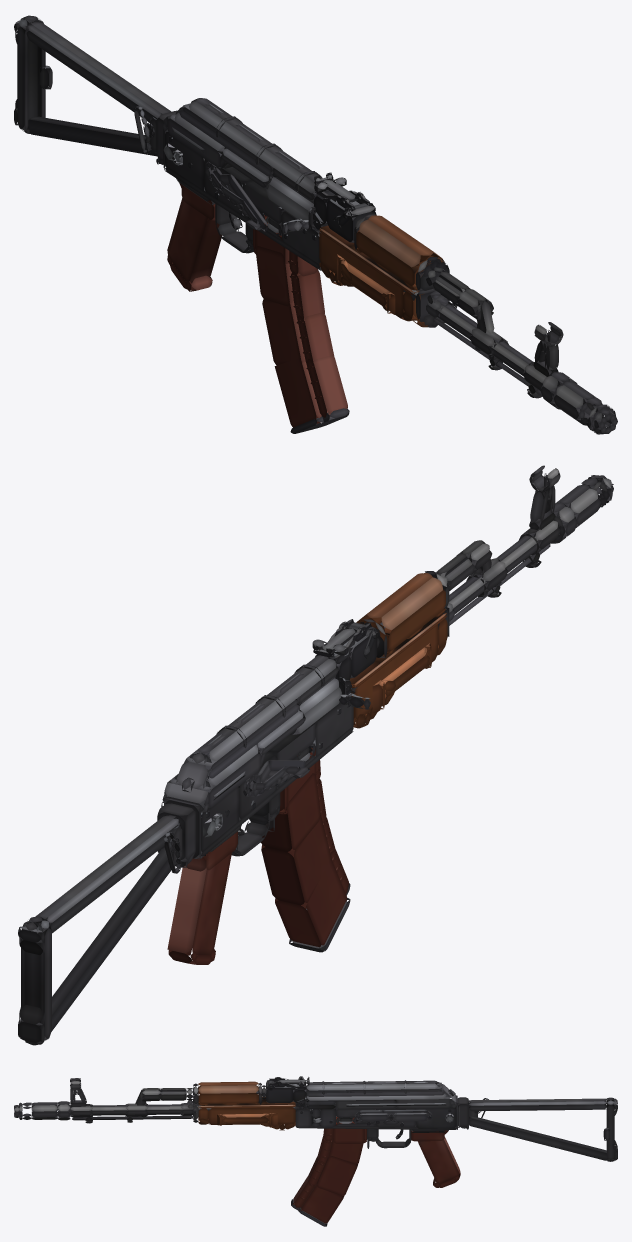
3 views of the same model, one above another, from view 1: azimuth 30°, elevation 25°; view 2: azimuth 150°, elevation 25°; view 3: azimuth 270°, elevation 25° (orthographic). The views are drawn at different scales.
Visible parts, largest first — view 1: cube_242, cube_434, cube_363, cube_362, cube_350, cube_207, cube_365, cube_60, cube_366, cube_65, cube_400, cube_398 (+18 smaller); view 2: cube_242, cube_434, cube_362, cube_363, cube_350, cube_207, cube_60, cube_398, cube_65, cube_400, cube_34, cube_399 (+11 smaller); view 3: cube_434, cube_242, cube_362, cube_363, cube_60, cube_436, cube_36, cube_65, cube_4, cube_32, cube_210, cube_435 (+26 smaller).
Part boxes in pixels (left/top/right/bottom): cube_242: left=167, top=198, right=222, bottom=283; cube_434: left=27, top=116, right=156, bottom=156; cube_363: left=274, top=358, right=330, bottom=427; cube_362: left=262, top=299, right=305, bottom=365; cube_350: left=255, top=246, right=293, bottom=306; cube_207: left=189, top=101, right=317, bottom=196; cube_365: left=307, top=355, right=347, bottom=417; cube_60: left=319, top=232, right=403, bottom=318; cube_366: left=297, top=312, right=334, bottom=364; cube_65: left=356, top=230, right=444, bottom=286; cube_400: left=26, top=28, right=157, bottom=122; cube_398: left=31, top=22, right=170, bottom=114; cube_242: left=167, top=853, right=231, bottom=954; cube_434: left=51, top=848, right=171, bottom=1031; cube_362: left=261, top=815, right=331, bottom=905; cube_363: left=275, top=858, right=346, bottom=947; cube_350: left=261, top=773, right=320, bottom=851; cube_207: left=204, top=658, right=336, bottom=762; cube_60: left=350, top=625, right=437, bottom=719; cube_398: left=38, top=815, right=175, bottom=922; cube_65: left=356, top=589, right=445, bottom=651; cube_400: left=47, top=823, right=180, bottom=933; cube_34: left=198, top=655, right=330, bottom=758; cube_399: left=45, top=818, right=179, bottom=924; cube_434: left=469, top=1116, right=608, bottom=1160; cube_242: left=418, top=1137, right=460, bottom=1183; cube_362: left=316, top=1156, right=358, bottom=1195; cube_363: left=300, top=1184, right=344, bottom=1223; cube_60: left=208, top=1104, right=295, bottom=1124; cube_436: left=469, top=1103, right=606, bottom=1111; cube_36: left=306, top=1083, right=437, bottom=1090; cube_65: left=198, top=1085, right=258, bottom=1103; cube_4: left=415, top=1107, right=456, bottom=1128; cube_32: left=306, top=1093, right=446, bottom=1101; cube_210: left=306, top=1091, right=444, bottom=1096; cube_435: left=469, top=1101, right=606, bottom=1106.
Bounding box in the file's own units: 20.55 × 75.6 × 282.
